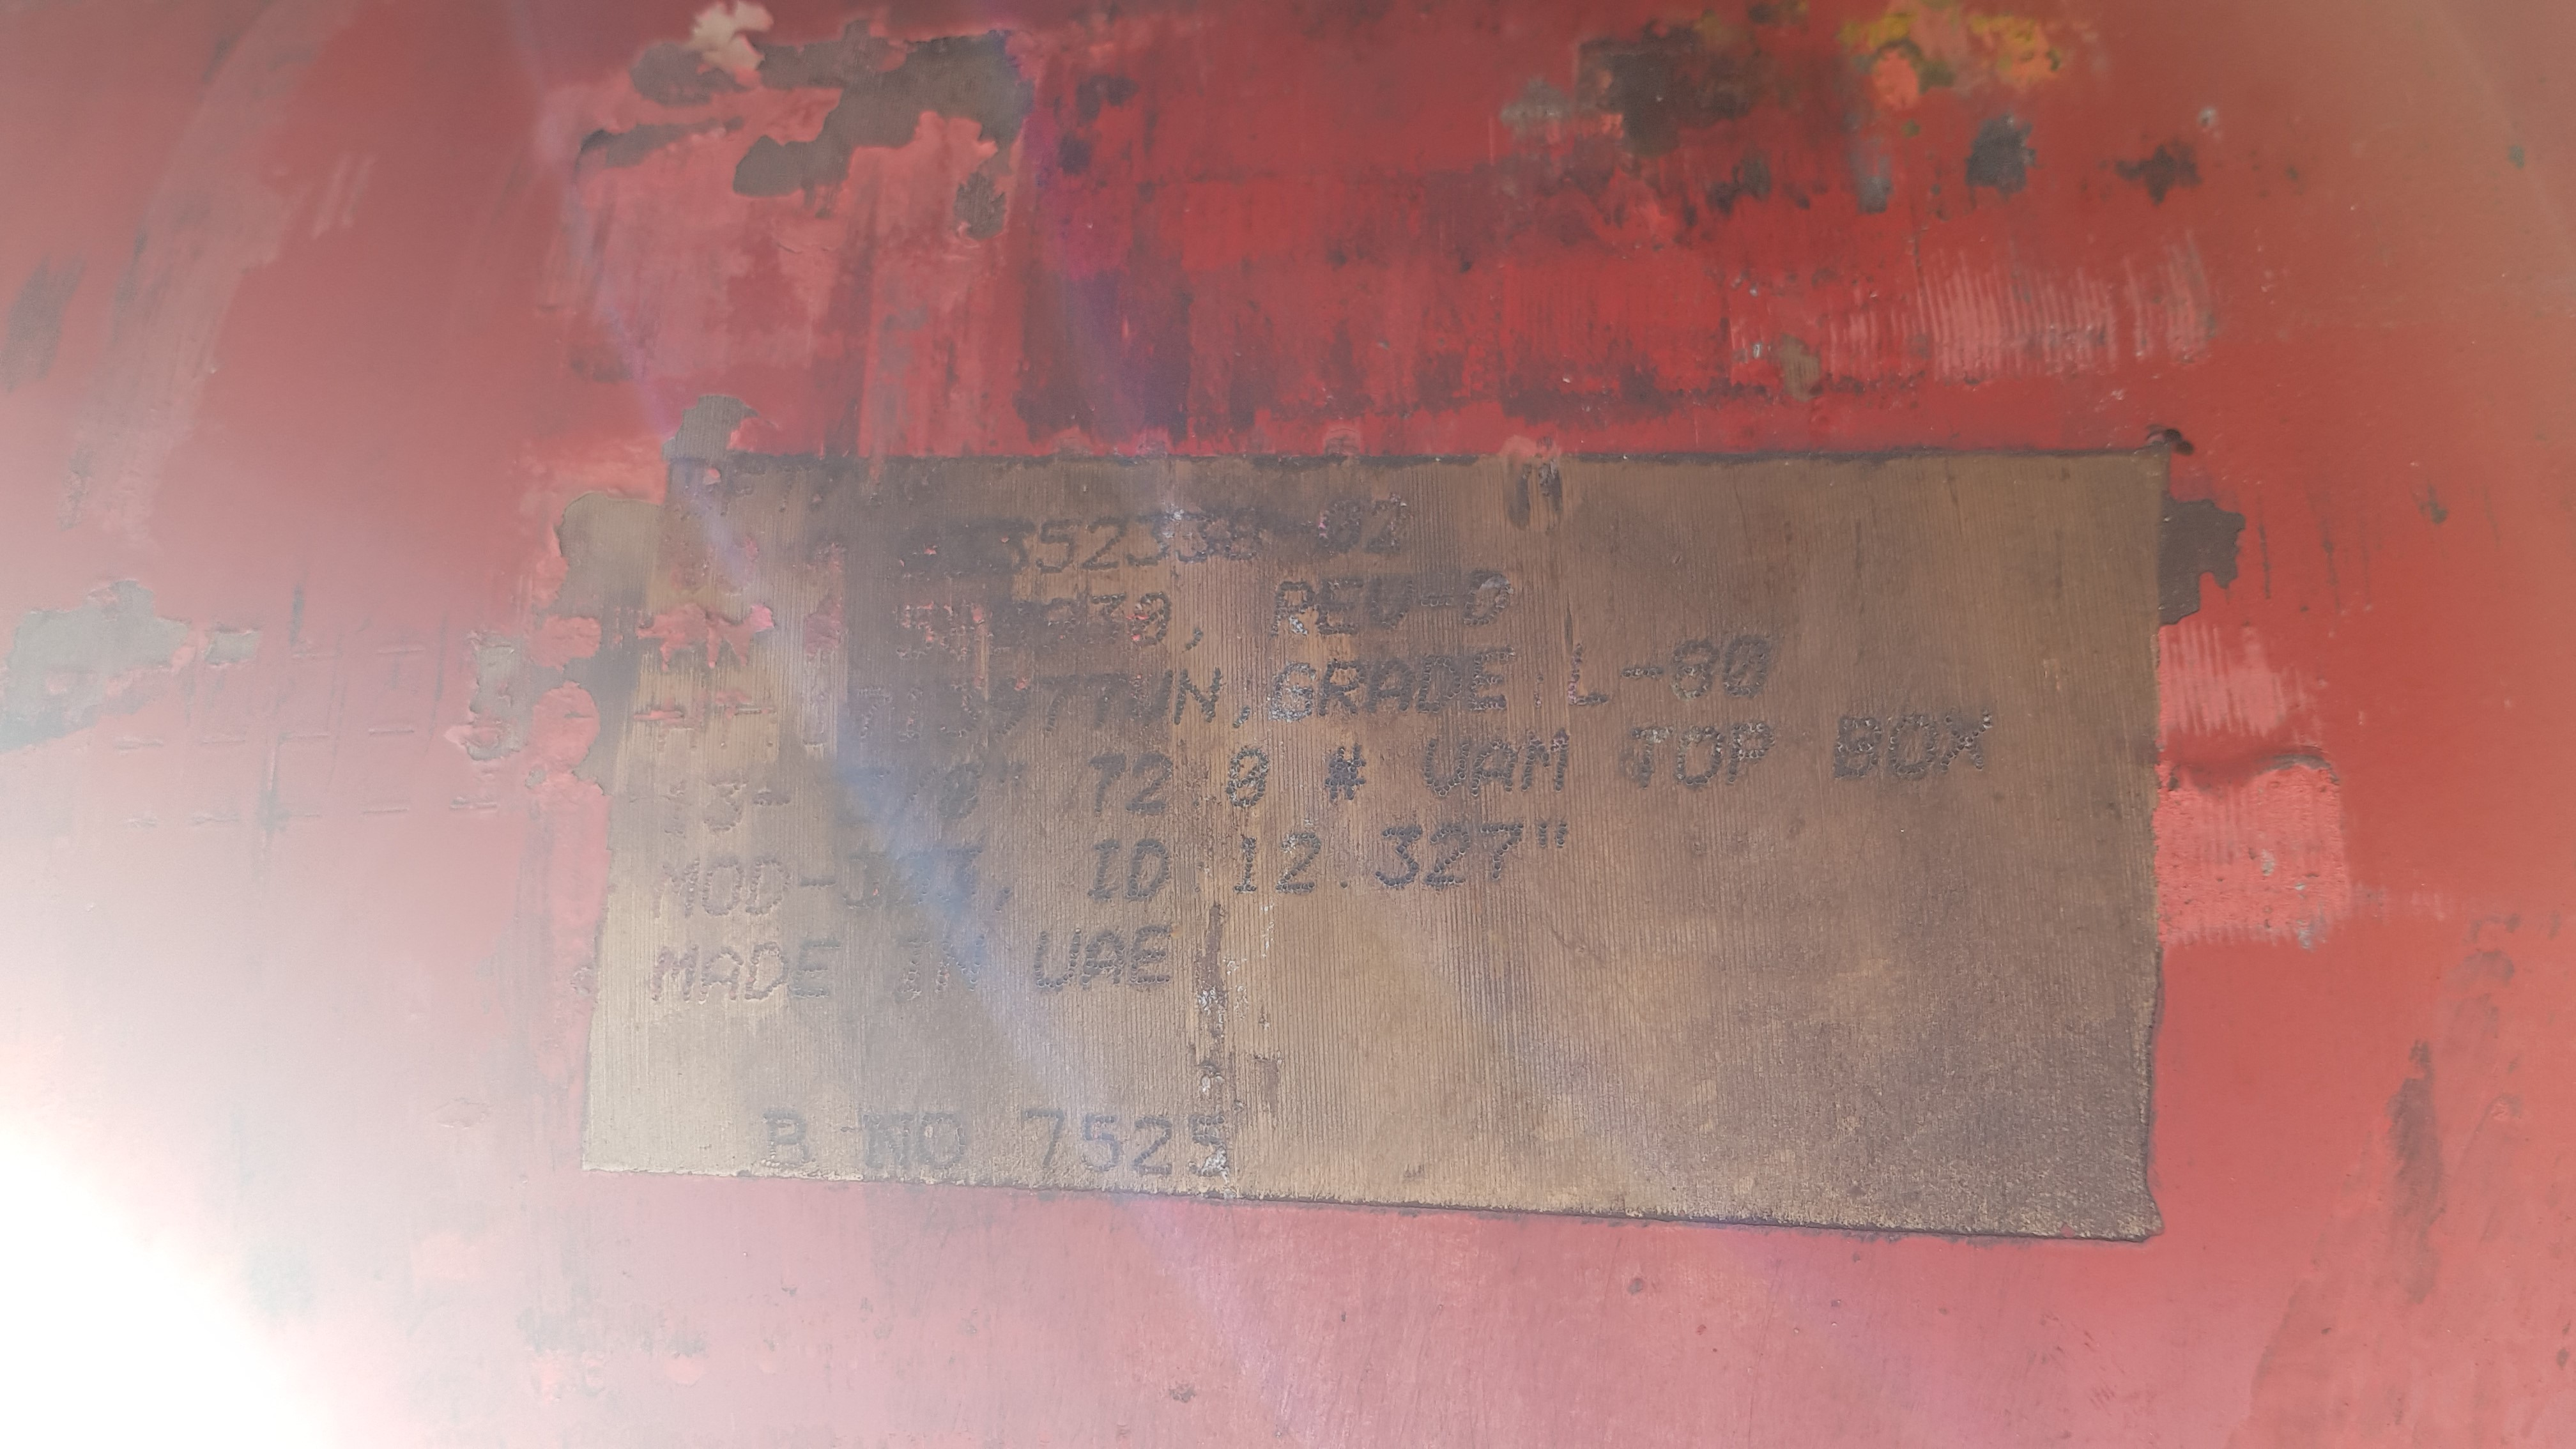character: (1937, 709, 2003, 787), (1520, 722, 1575, 803), (1129, 745, 1184, 824), (1886, 711, 1943, 787), (1313, 741, 1375, 810), (1424, 819, 1476, 902), (1829, 711, 1888, 784), (1270, 830, 1330, 899), (1375, 819, 1424, 902), (1725, 715, 1775, 796), (1028, 927, 1083, 998), (1463, 648, 1522, 713), (1131, 922, 1185, 991), (787, 936, 840, 1007), (1670, 632, 1720, 706), (1414, 653, 1467, 722), (1677, 720, 1725, 796), (1129, 835, 1177, 911), (1560, 639, 1612, 709), (1221, 745, 1272, 816), (1456, 566, 1513, 630), (1263, 656, 1318, 722), (1316, 575, 1369, 642), (936, 936, 989, 1003), (649, 855, 701, 924), (1424, 731, 1474, 801), (646, 943, 701, 1007), (1265, 577, 1318, 642), (1083, 924, 1131, 996), (1723, 630, 1771, 701), (1481, 819, 1529, 890), (1364, 658, 1417, 720), (1035, 669, 1081, 740), (1631, 720, 1672, 800), (1224, 501, 1276, 563), (1366, 488, 1415, 552), (1366, 575, 1415, 639), (895, 932, 938, 1007), (743, 939, 791, 1005), (1085, 669, 1132, 732), (745, 858, 793, 922), (1088, 833, 1127, 911), (1090, 748, 1131, 823), (1175, 665, 1226, 724), (1127, 665, 1177, 725), (701, 777, 750, 837), (1086, 591, 1132, 655), (701, 855, 745, 920), (1472, 736, 1520, 796), (1320, 658, 1366, 720), (701, 945, 745, 1008), (1323, 492, 1366, 557), (1037, 513, 1083, 573), (1228, 826, 1267, 895), (1040, 596, 1083, 658), (1129, 511, 1177, 566), (1177, 508, 1219, 568), (1134, 591, 1177, 651), (660, 778, 699, 842), (1088, 515, 1129, 573)
